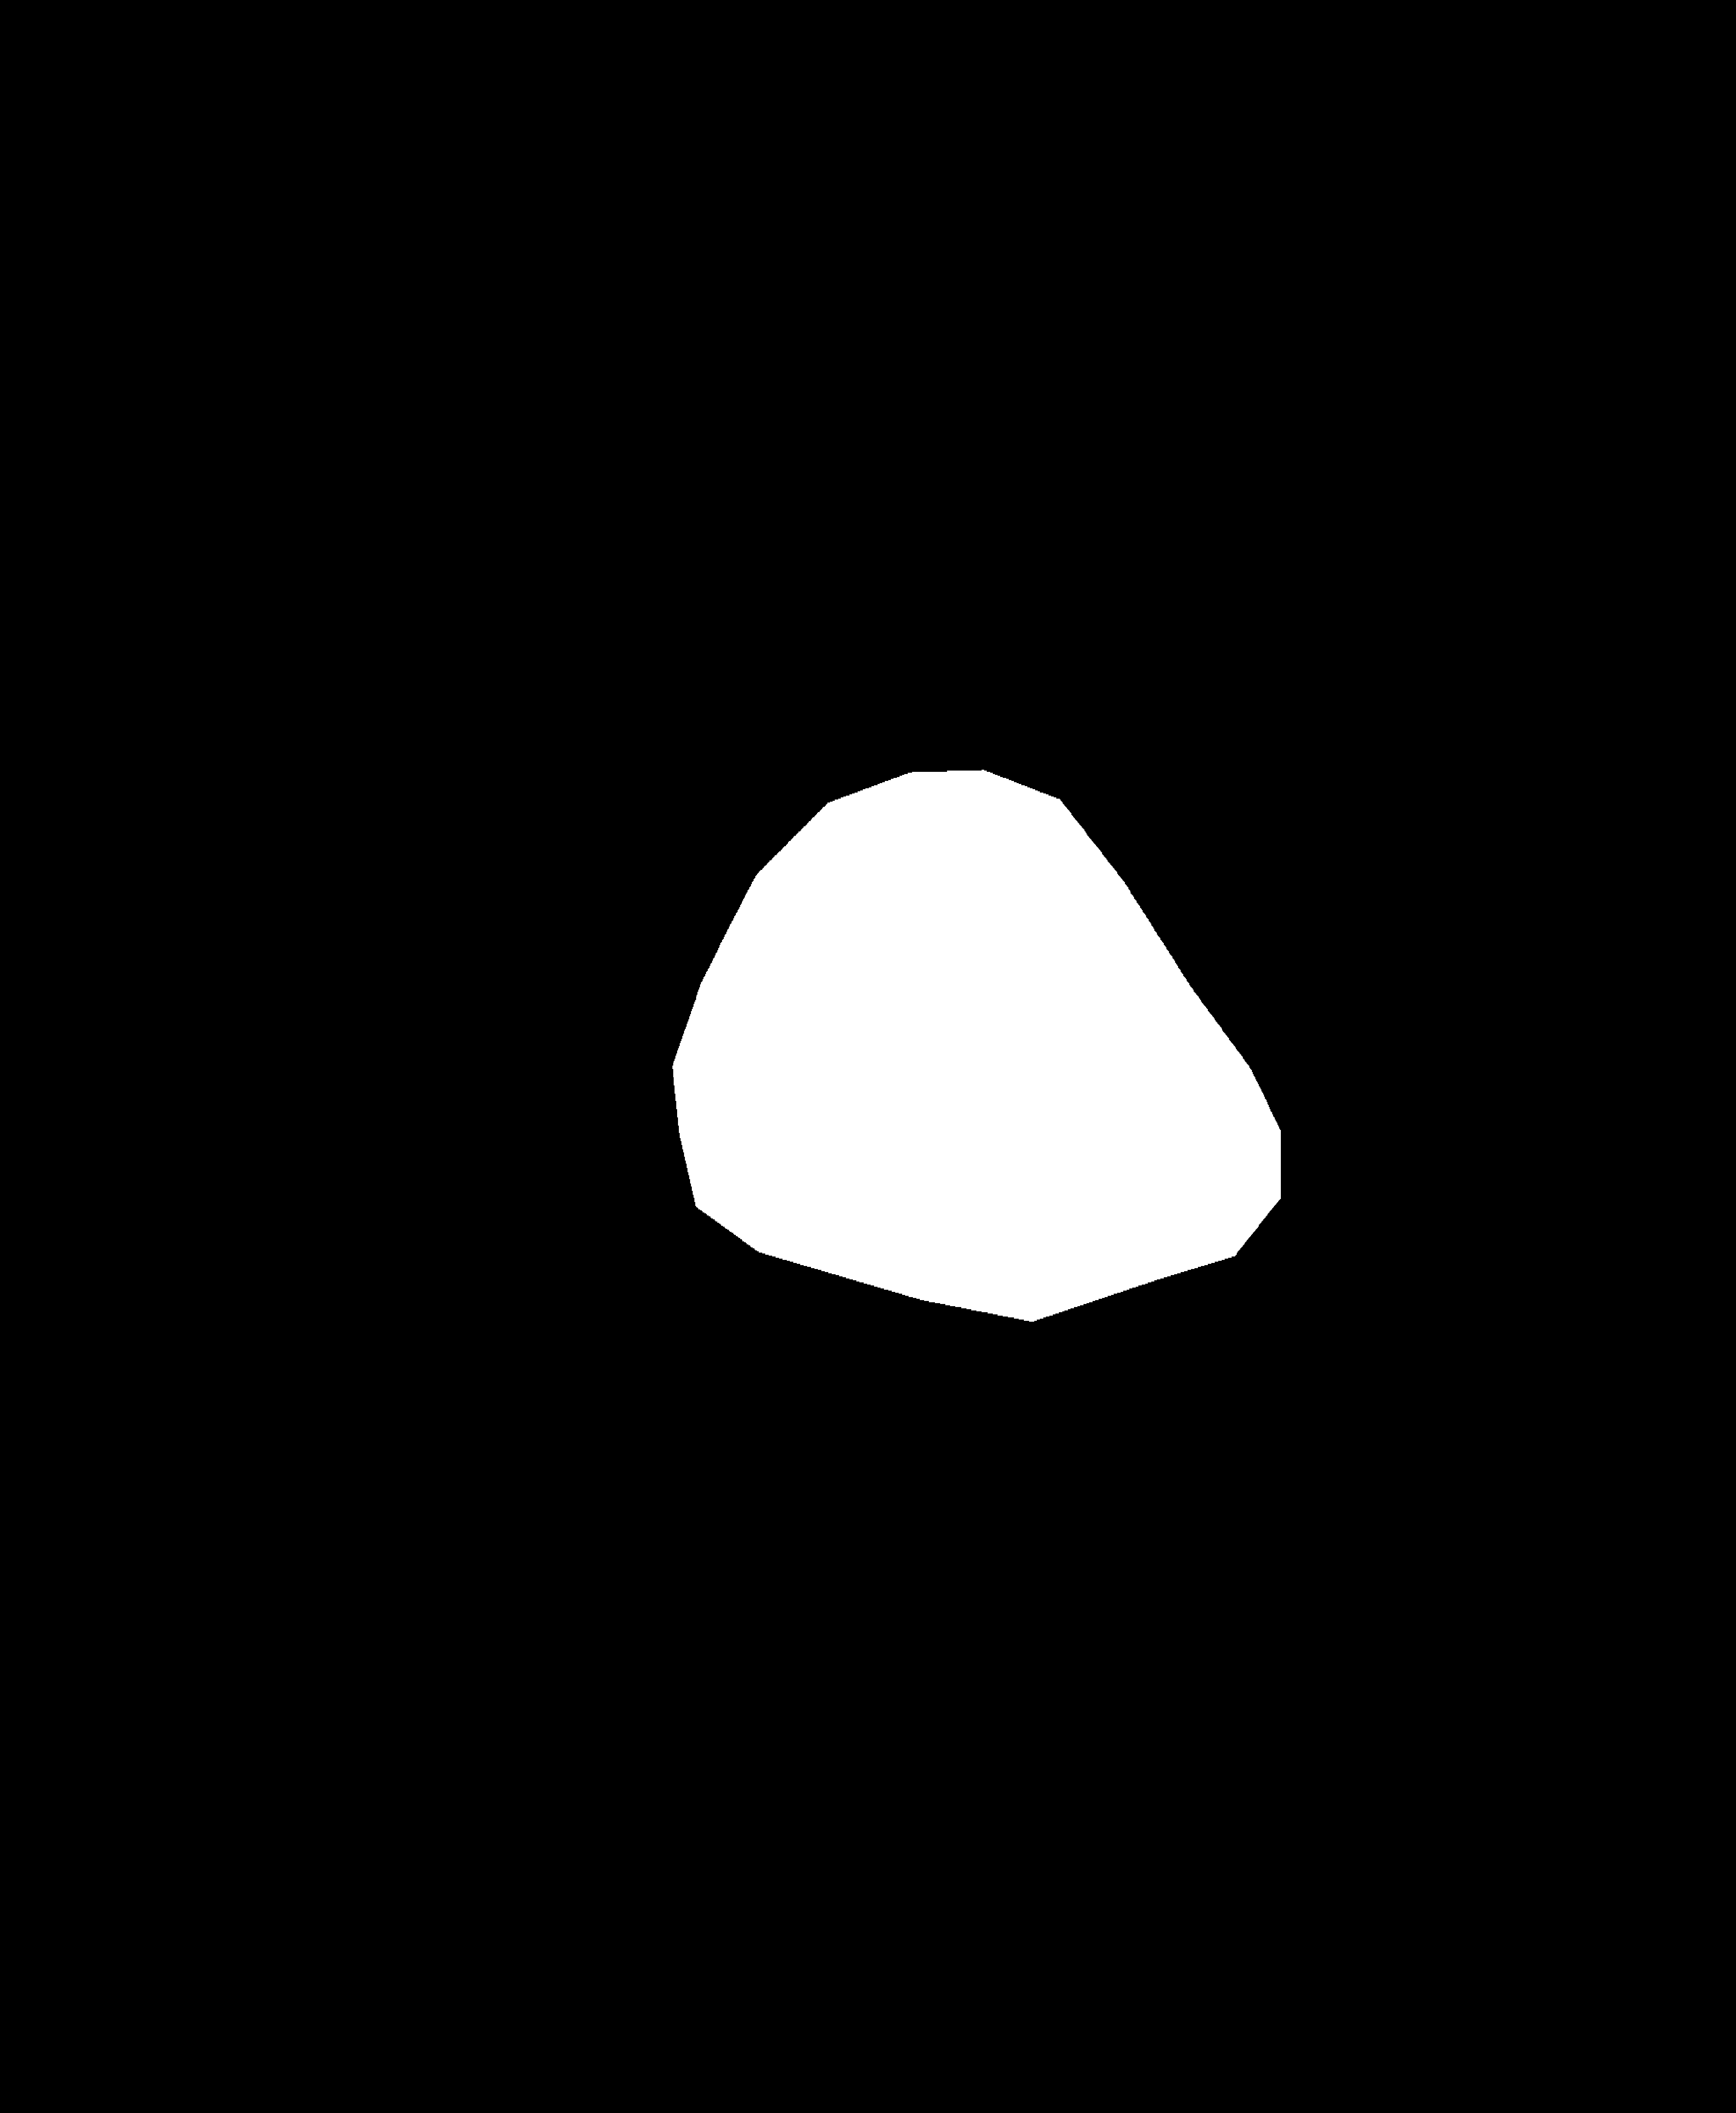heart: (674, 788, 1306, 1409)
left_lung: (186, 200, 806, 1416)
right_lung: (922, 209, 1578, 1393)
